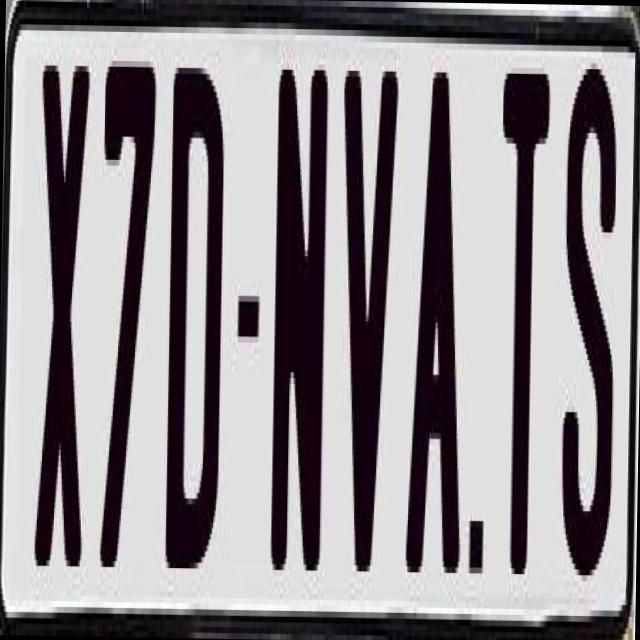7: (92, 49, 155, 562)
A: (404, 60, 466, 572)
D: (162, 55, 230, 558)
N: (268, 68, 328, 588)
S: (559, 51, 627, 558)
T: (493, 67, 549, 586)
V: (332, 59, 398, 596)
X: (31, 64, 87, 596)
